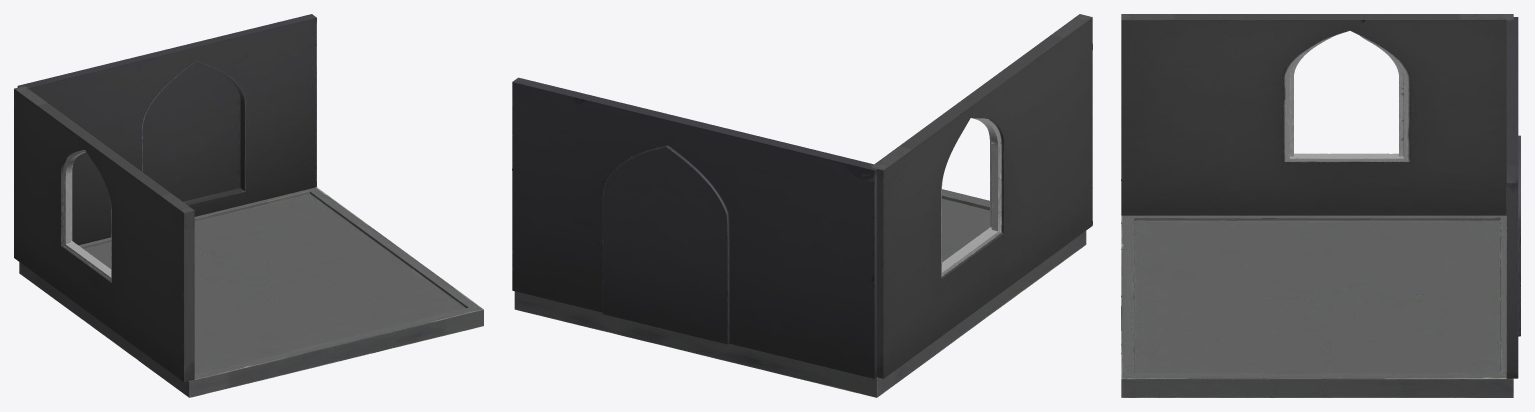
The model's file is charcoal-noor-room.glb.
The picture shows the model from 3 angles, left to right: view 1: azimuth 30°, elevation 25°; view 2: azimuth 150°, elevation 25°; view 3: azimuth 270°, elevation 25°; orthographic projection. The views are drawn at different scales.
Parts seen in each view (by area): view 1: floor_00, back_mihrab_wall_00, left_window_wall_00; view 2: back_mihrab_wall_00, left_window_wall_00, floor_00; view 3: floor_00, left_window_wall_00, back_mihrab_wall_00.
Boxes of the visible parts, <box> form: floor_00: <box>19,187,483,397</box>; back_mihrab_wall_00: <box>17,14,316,245</box>; left_window_wall_00: <box>14,86,194,382</box>; back_mihrab_wall_00: <box>512,77,876,378</box>; left_window_wall_00: <box>871,14,1092,378</box>; floor_00: <box>514,189,1086,397</box>; floor_00: <box>1121,215,1513,397</box>; left_window_wall_00: <box>1121,14,1513,215</box>; back_mihrab_wall_00: <box>1506,17,1520,378</box>.
Bounding box in the file's own units: 4.48 × 2.66 × 4.48.
3 materials, 3 textured.
